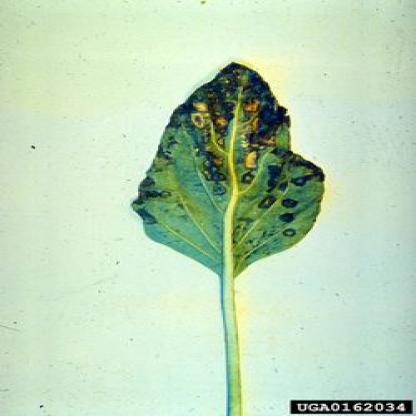tomato leaf bacterial spot: (130, 54, 338, 284)
